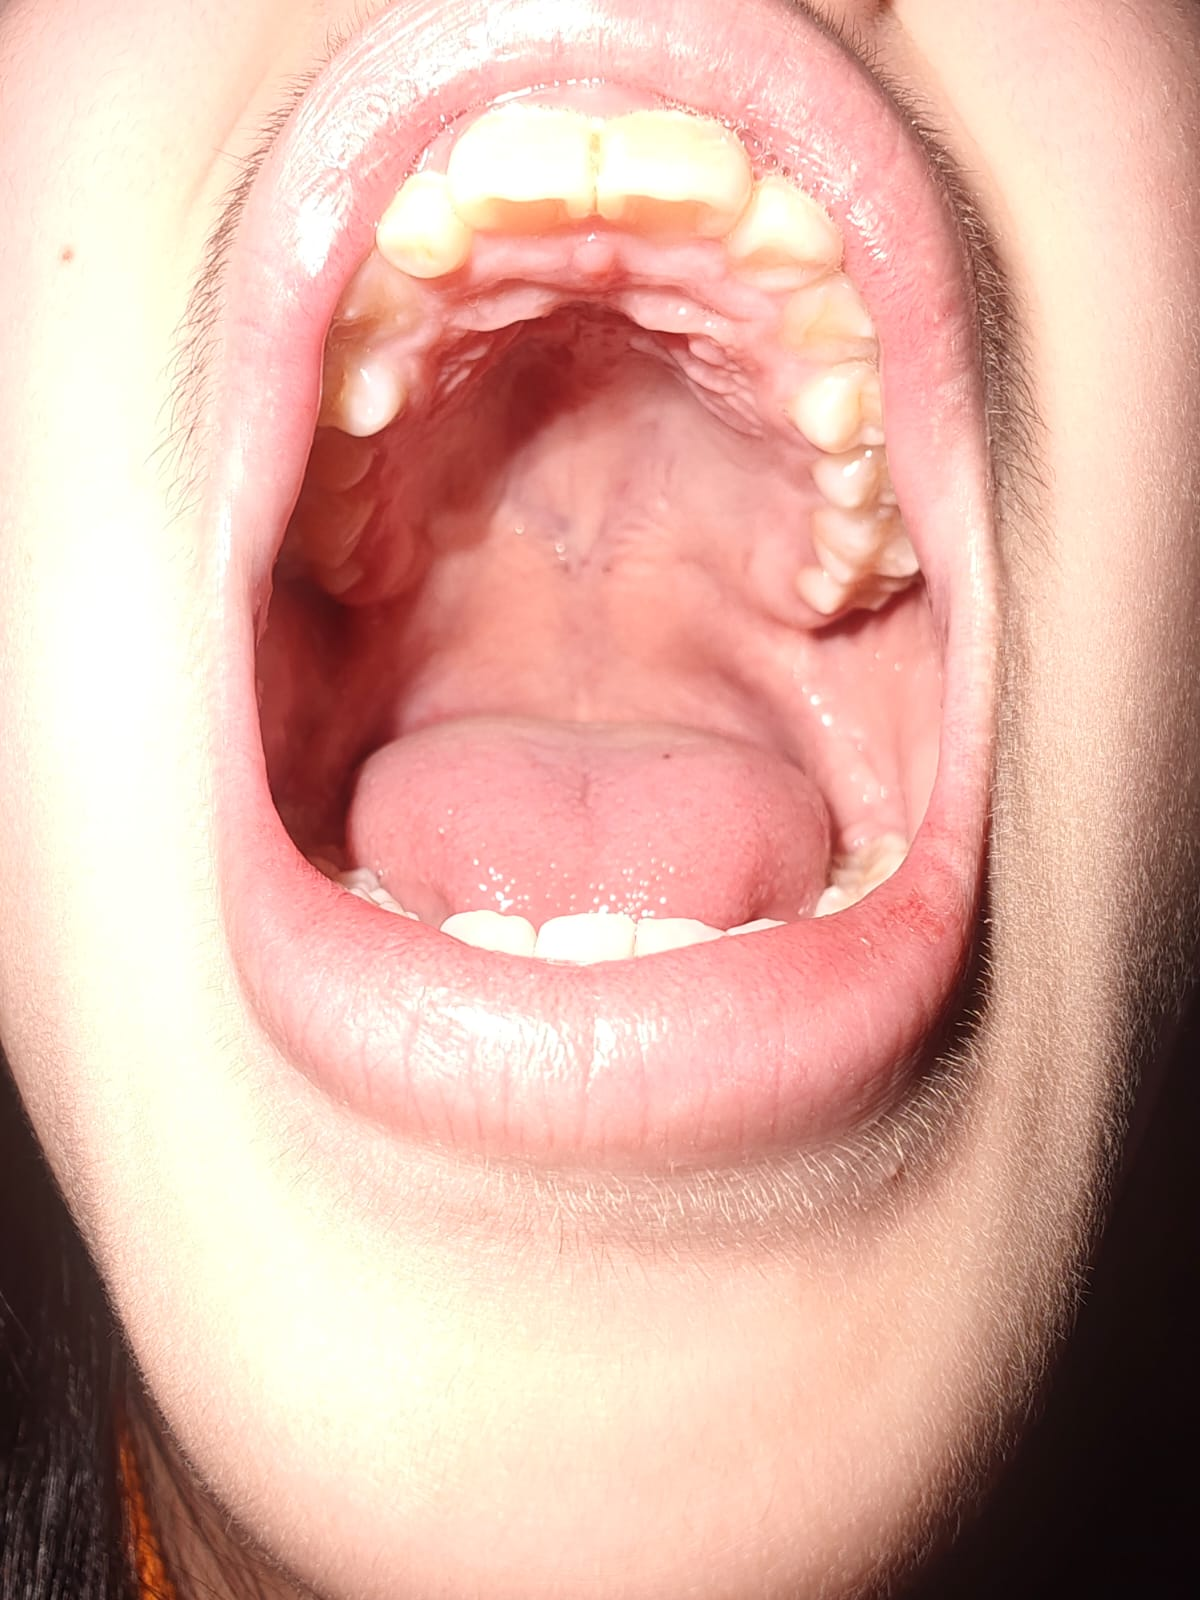teeth: (729, 174, 841, 300), (614, 122, 734, 238), (464, 125, 597, 226), (376, 174, 468, 275), (790, 370, 880, 455), (784, 283, 877, 363)
